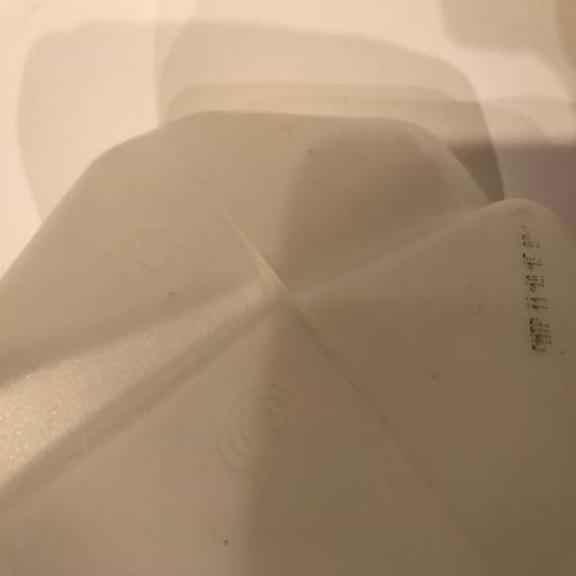Plastik: (0, 98, 576, 576)
